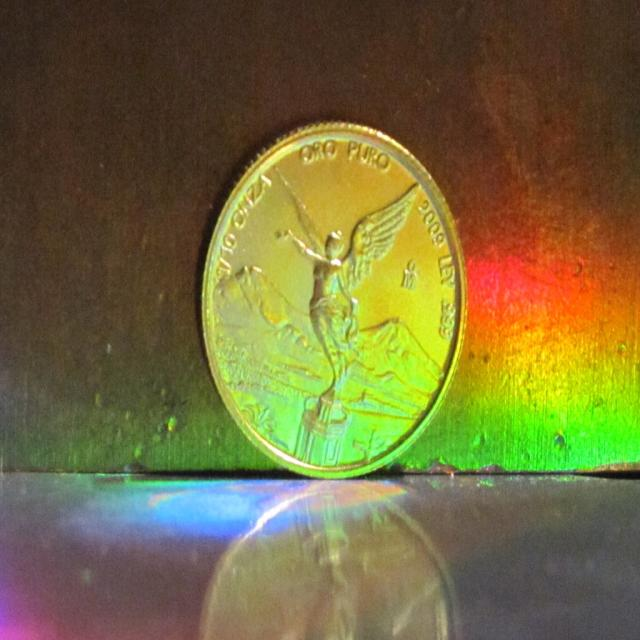Coin: (199, 121, 468, 476)
